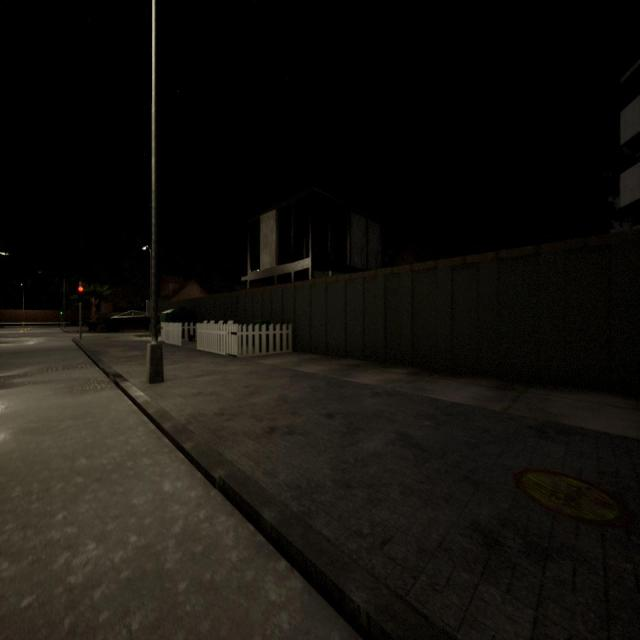Vehicle: (110, 310, 148, 332)
traffic_light: (77, 285, 84, 302), (60, 310, 63, 316)
